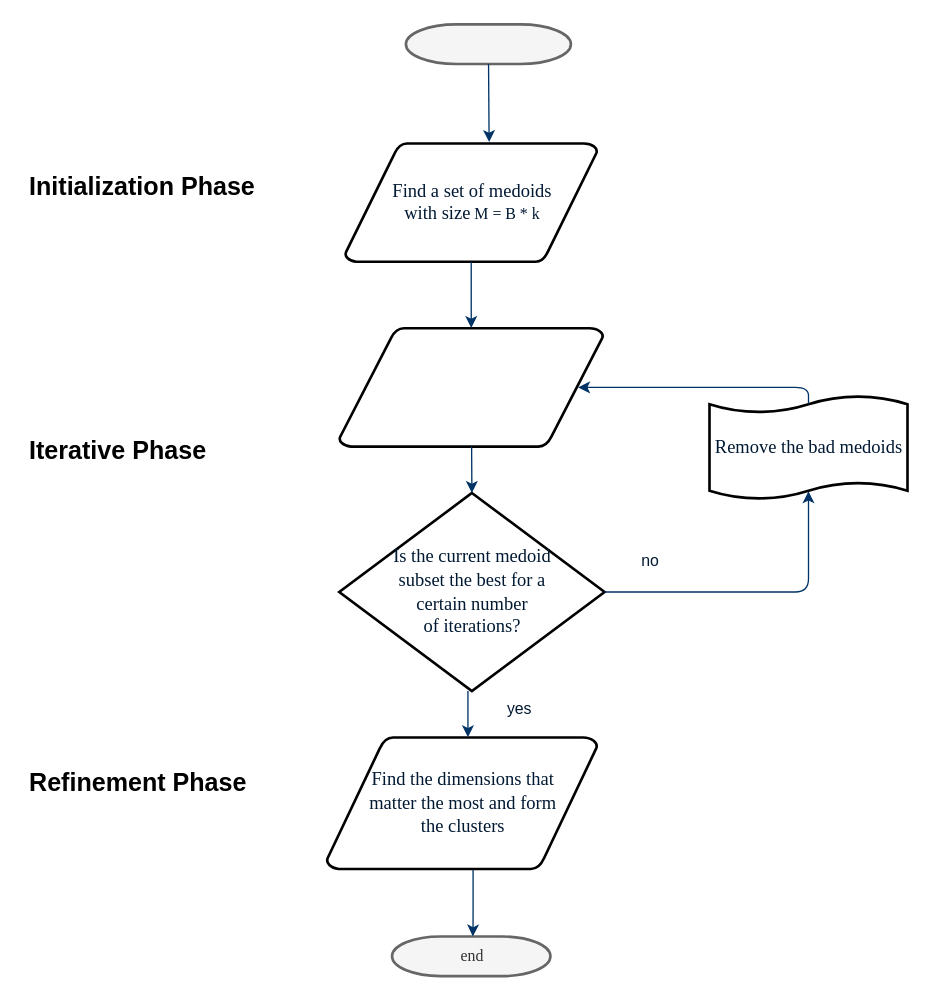
Image size: 932x999. Some labels were removed from this diagram. The centre of each missing label's shape, as x and y in pixels:
"start" goes at point 488,43.
"Take a subset of the medoids" goes at point 470,386.
